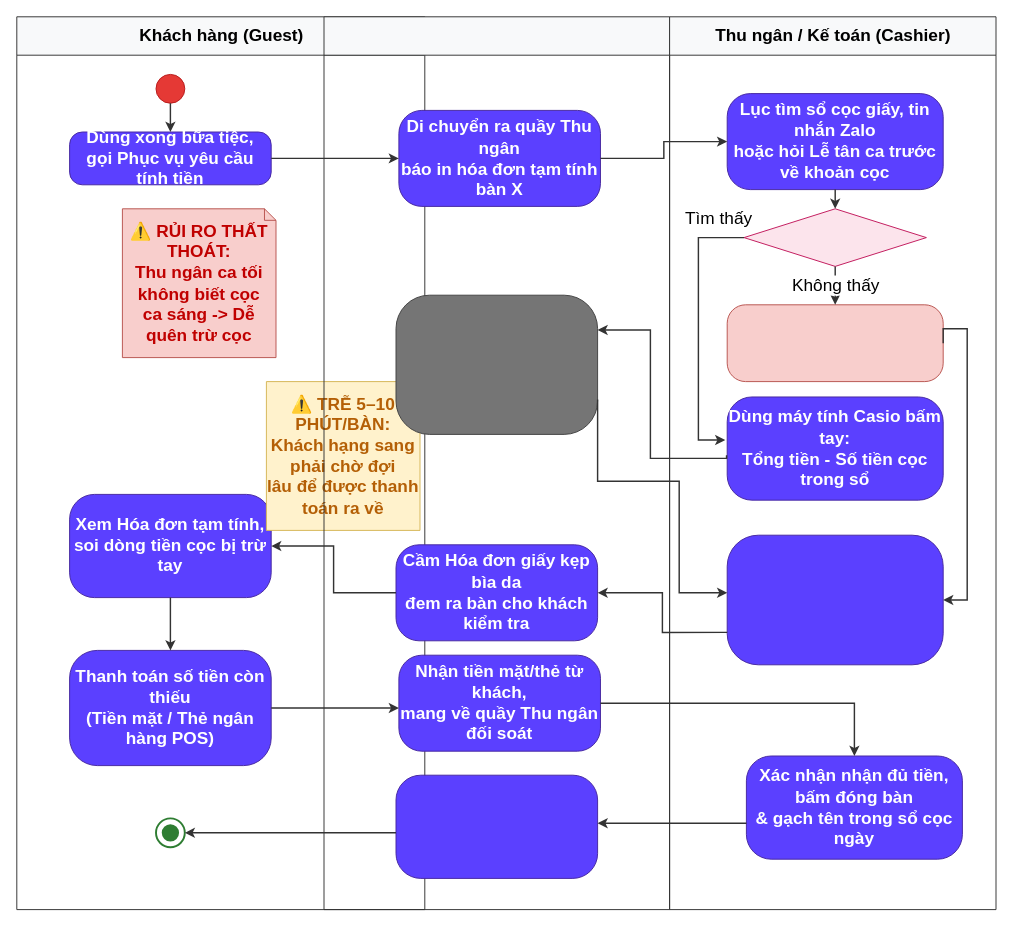
Some shapes in this 1013 by 926 pixel diagram are drawn without their labels. Here are the shapes that lost their labels. From the top down, the box of each, then its label:
(743, 208, 926, 266): Tìm thấy khoản cọc của bàn?
(726, 304, 943, 382): In hóa đơn nguyên giá (Nguy cơ khách khiếu nại cọc)
(395, 294, 598, 434): Đứng chờ Thu ngân tra sổ cọc & tính toán cấn trừ (Mất 5-10p)
(323, 16, 670, 910): Nhân viên Phục vụ (Waitstaff)
(726, 534, 943, 665): In hóa đơn tạm tính từ máy POS & ghi bút chì số tiền còn lại
(395, 774, 598, 878): Gửi lại hóa đơn đỏ & tiến hành dọn dẹp bàn tiệc cho lượt mới
